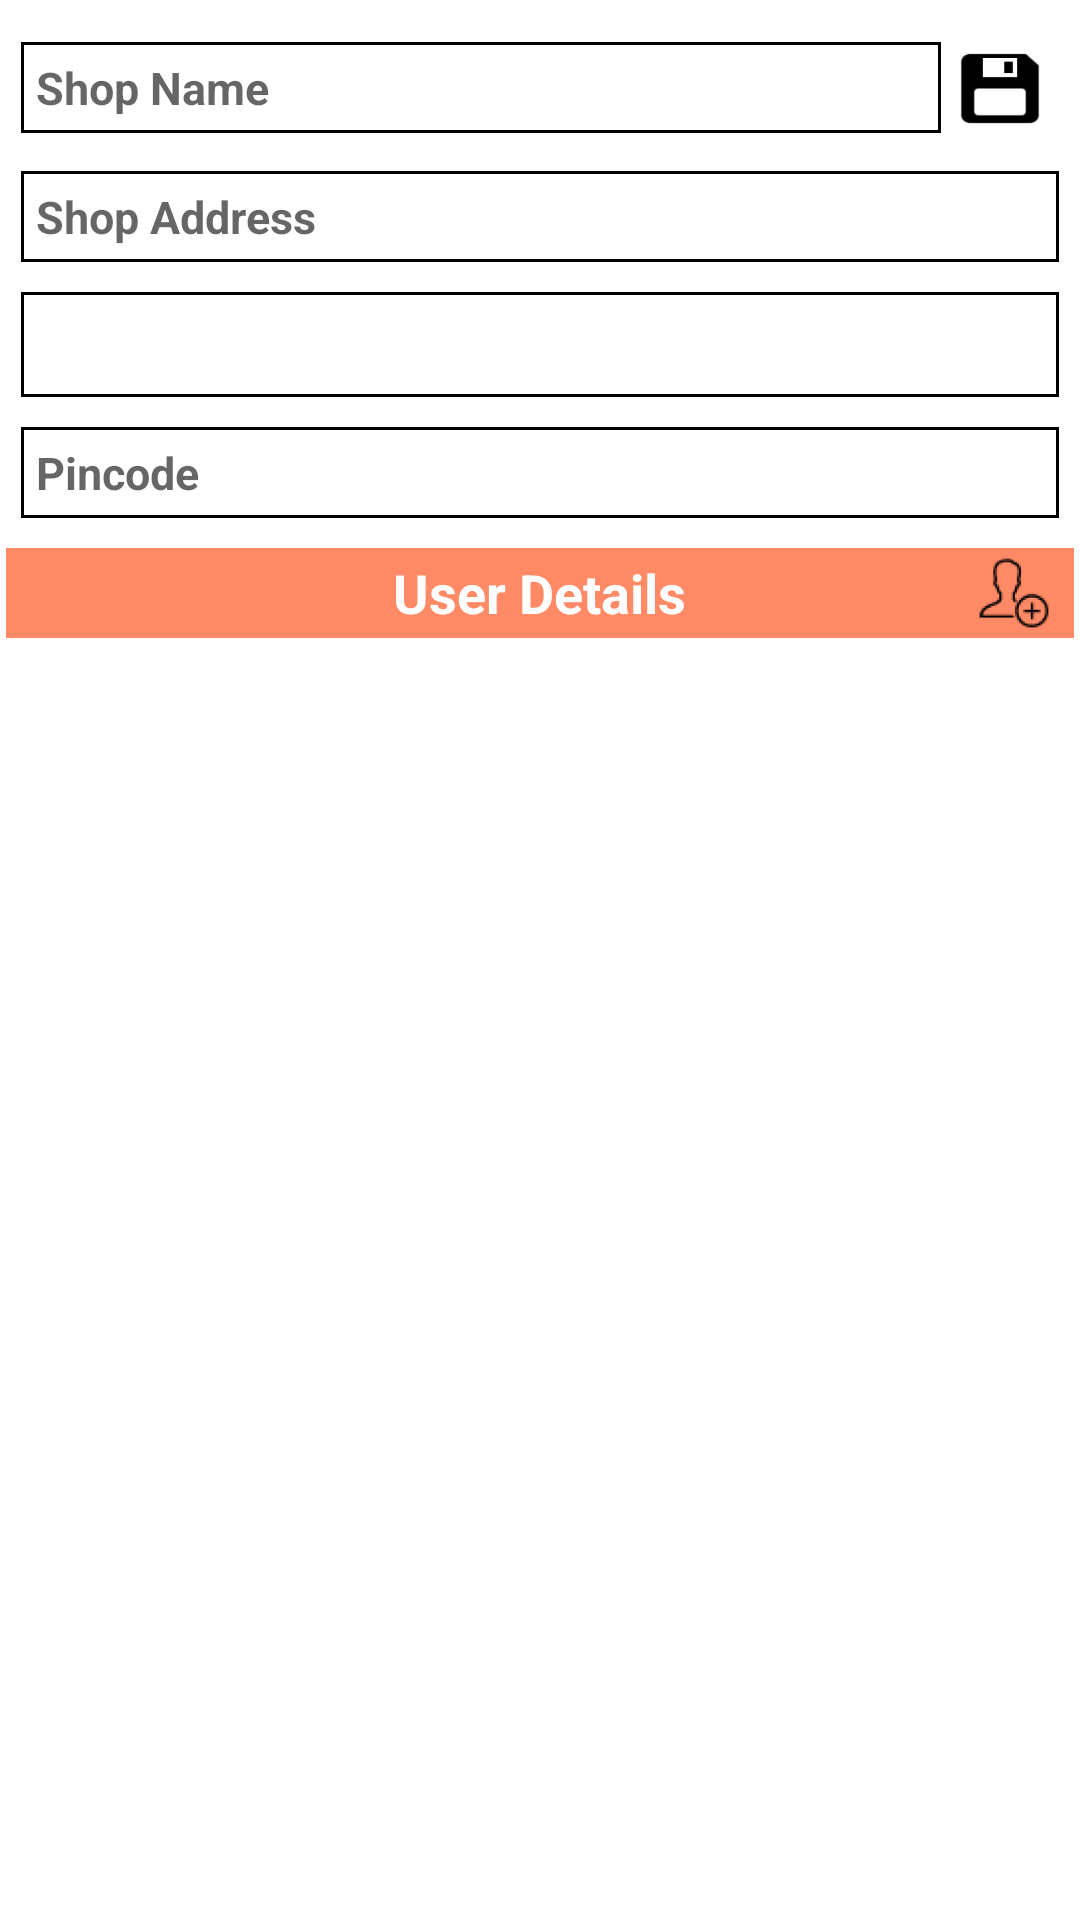

Where icons sit on this 1080*1920 app screen, as (left=x1, top=y1, right=x2, bottom=y2):
add: (left=979, top=558, right=1049, bottom=628)
save: (left=961, top=53, right=1039, bottom=124)
